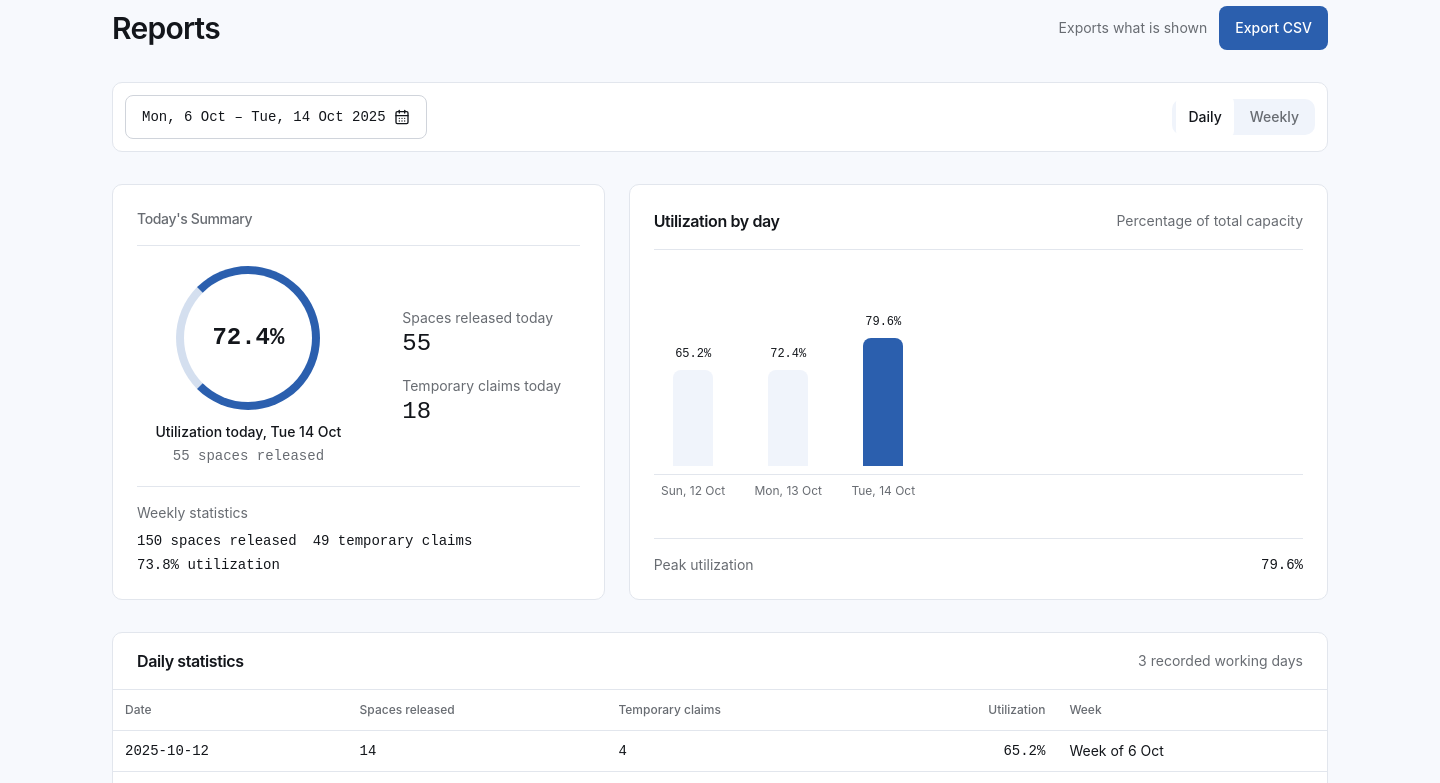
Test case: parking reports › AC_19_2_RefreshesReportRowsAndStatisticsForSelectedFilter
The image size is (1440, 783).
Click the button "Weekly" at (1274, 117), box [1238, 95, 1311, 139]
(page scrolled)
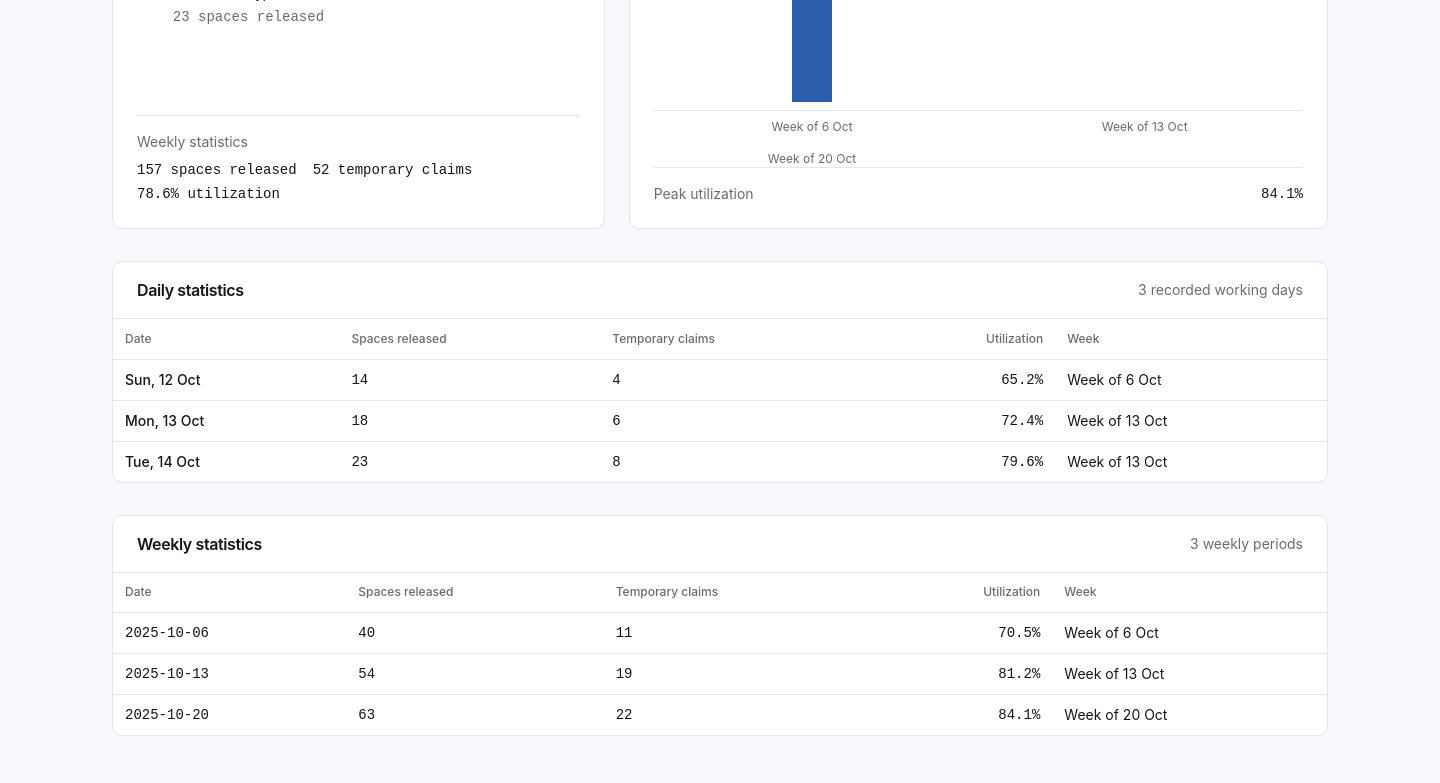
Expected: the text "2025-10-06" is shown, [113, 612, 346, 654]
Expected: the text "2025-10-13" is shown, [113, 654, 346, 694]
Expected: the text "2025-10-20" is shown, [113, 694, 346, 735]
